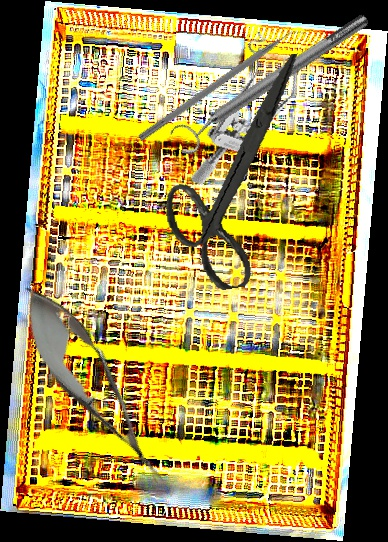Chopper: (137, 22, 310, 150)
Fixation Ring: (165, 4, 378, 160)
Iris Scissors: (144, 53, 334, 297)
Micro Scissor: (0, 271, 187, 502)
Speculum: (189, 26, 312, 205)
